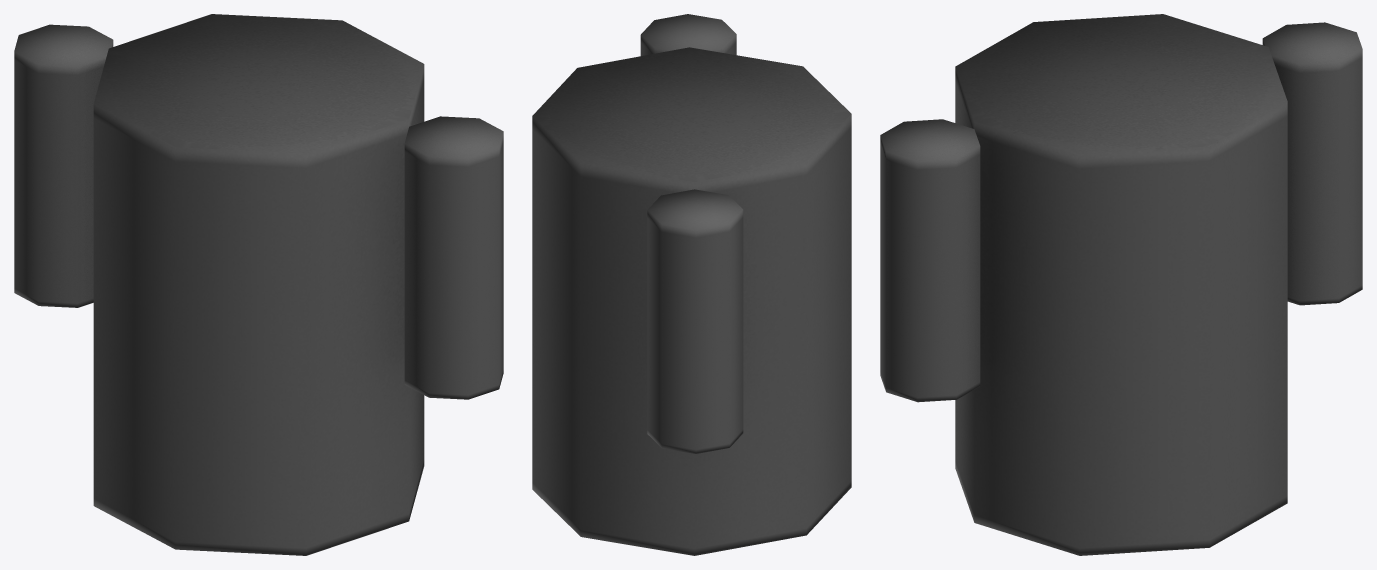
File: Android_gray.dae
The picture shows the model from 3 angles, left to right: view 1: azimuth 30°, elevation 25°; view 2: azimuth 150°, elevation 25°; view 3: azimuth 270°, elevation 25°; orthographic projection. The views are drawn at different scales.
Parts seen in each view (by area): view 1: Body, LeftHand, RightHand; view 2: Body, RightHand, LeftHand; view 3: Body, LeftHand, RightHand.
Boxes of the visible parts, x1,y1,x2,y2 form: Body: (93, 14, 424, 555); LeftHand: (404, 116, 503, 399); RightHand: (14, 24, 113, 307); Body: (532, 47, 851, 555); RightHand: (647, 189, 743, 453); LeftHand: (640, 14, 736, 55); Body: (955, 14, 1287, 555); LeftHand: (880, 119, 980, 402); RightHand: (1262, 22, 1362, 305).
Bounding box in the file's own units: 1.94 × 2.81 × 2.58.
1 material, 1 textured.
